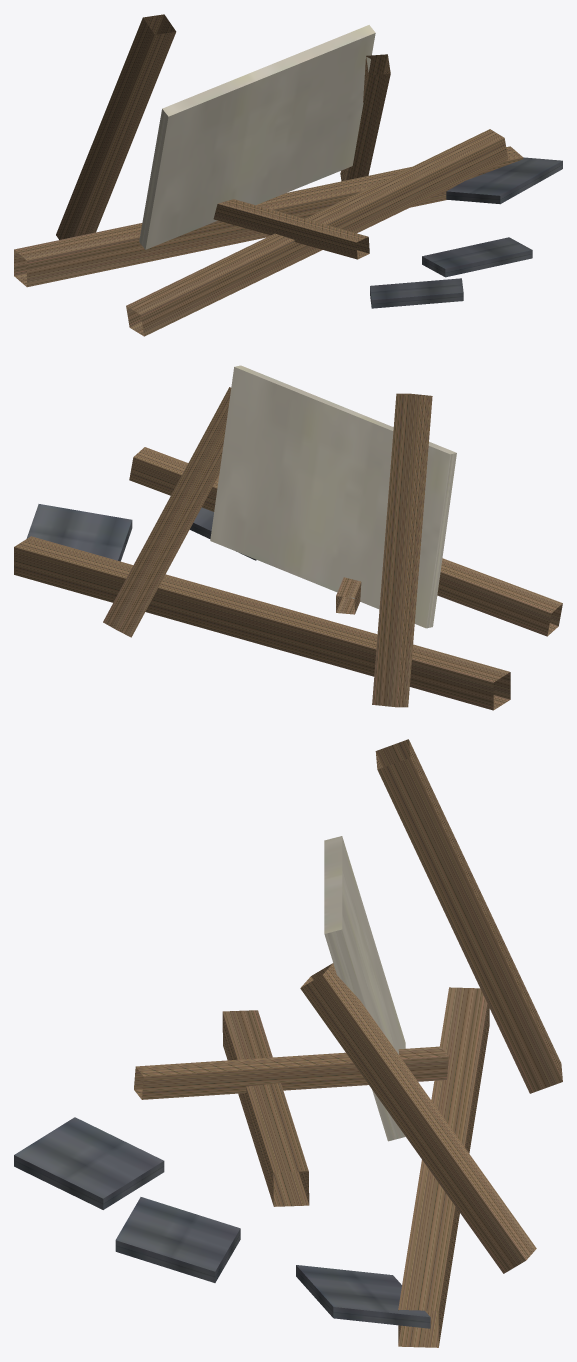
File: debris_tokyo_wood_frame.glb
The picture shows the model from 3 angles, top to bottom: view 1: azimuth 30°, elevation 25°; view 2: azimuth 150°, elevation 25°; view 3: azimuth 270°, elevation 25°; orthographic projection. The views are drawn at different scales.
Parts seen in each view (by area): view 1: debris_tokyo_wood_frame; view 2: debris_tokyo_wood_frame; view 3: debris_tokyo_wood_frame.
Part boxes in pixels (x1,y1,x2,y2): debris_tokyo_wood_frame: (14,14,562,336); debris_tokyo_wood_frame: (14,365,562,710); debris_tokyo_wood_frame: (14,739,562,1347).
Size of the model in its own units: 3.1 by 1.57 by 2.16.
1 material, 1 textured.
